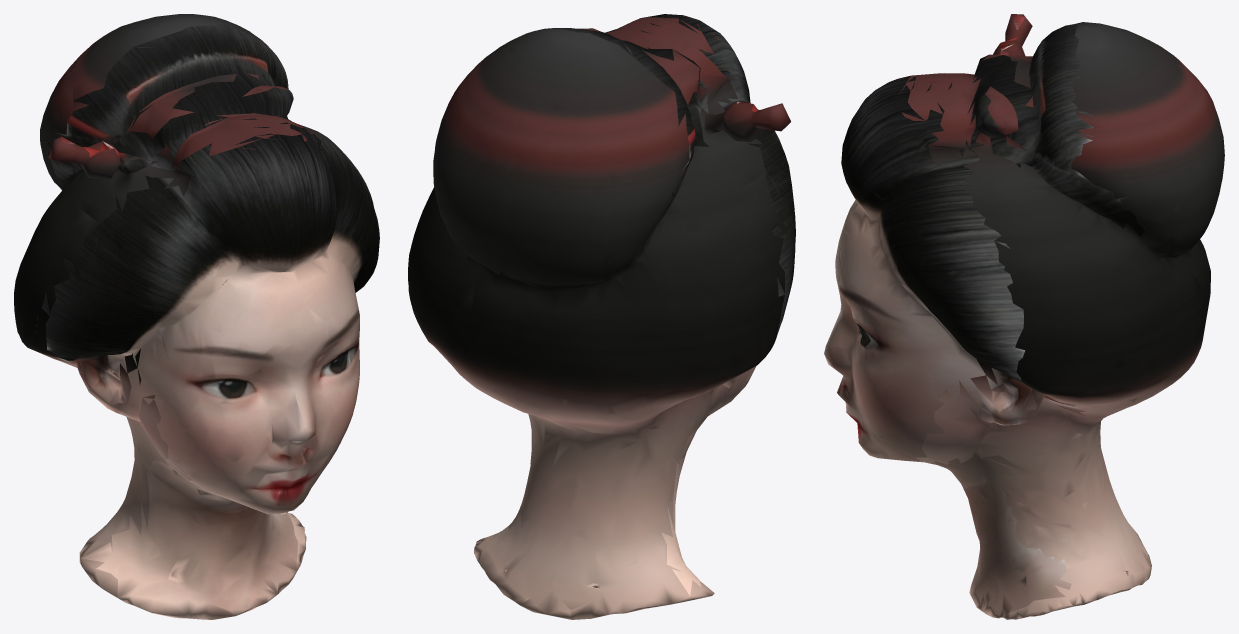
Rendered from head_bijin.glb.
3 views of the same model, side by side, from view 1: azimuth 30°, elevation 25°; view 2: azimuth 150°, elevation 25°; view 3: azimuth 270°, elevation 25° (orthographic). The views are drawn at different scales.
Visible parts, largest first — view 1: geometry_0; view 2: geometry_0; view 3: geometry_0.
Part boxes in pixels (box(x1,y1,x2,y2)): geometry_0: box(14, 14, 379, 619); geometry_0: box(408, 14, 795, 619); geometry_0: box(824, 14, 1224, 619).
Bounding box in the file's own units: 0.6188 × 1 × 0.6529.
Materials: 1 (1 with a texture image).
